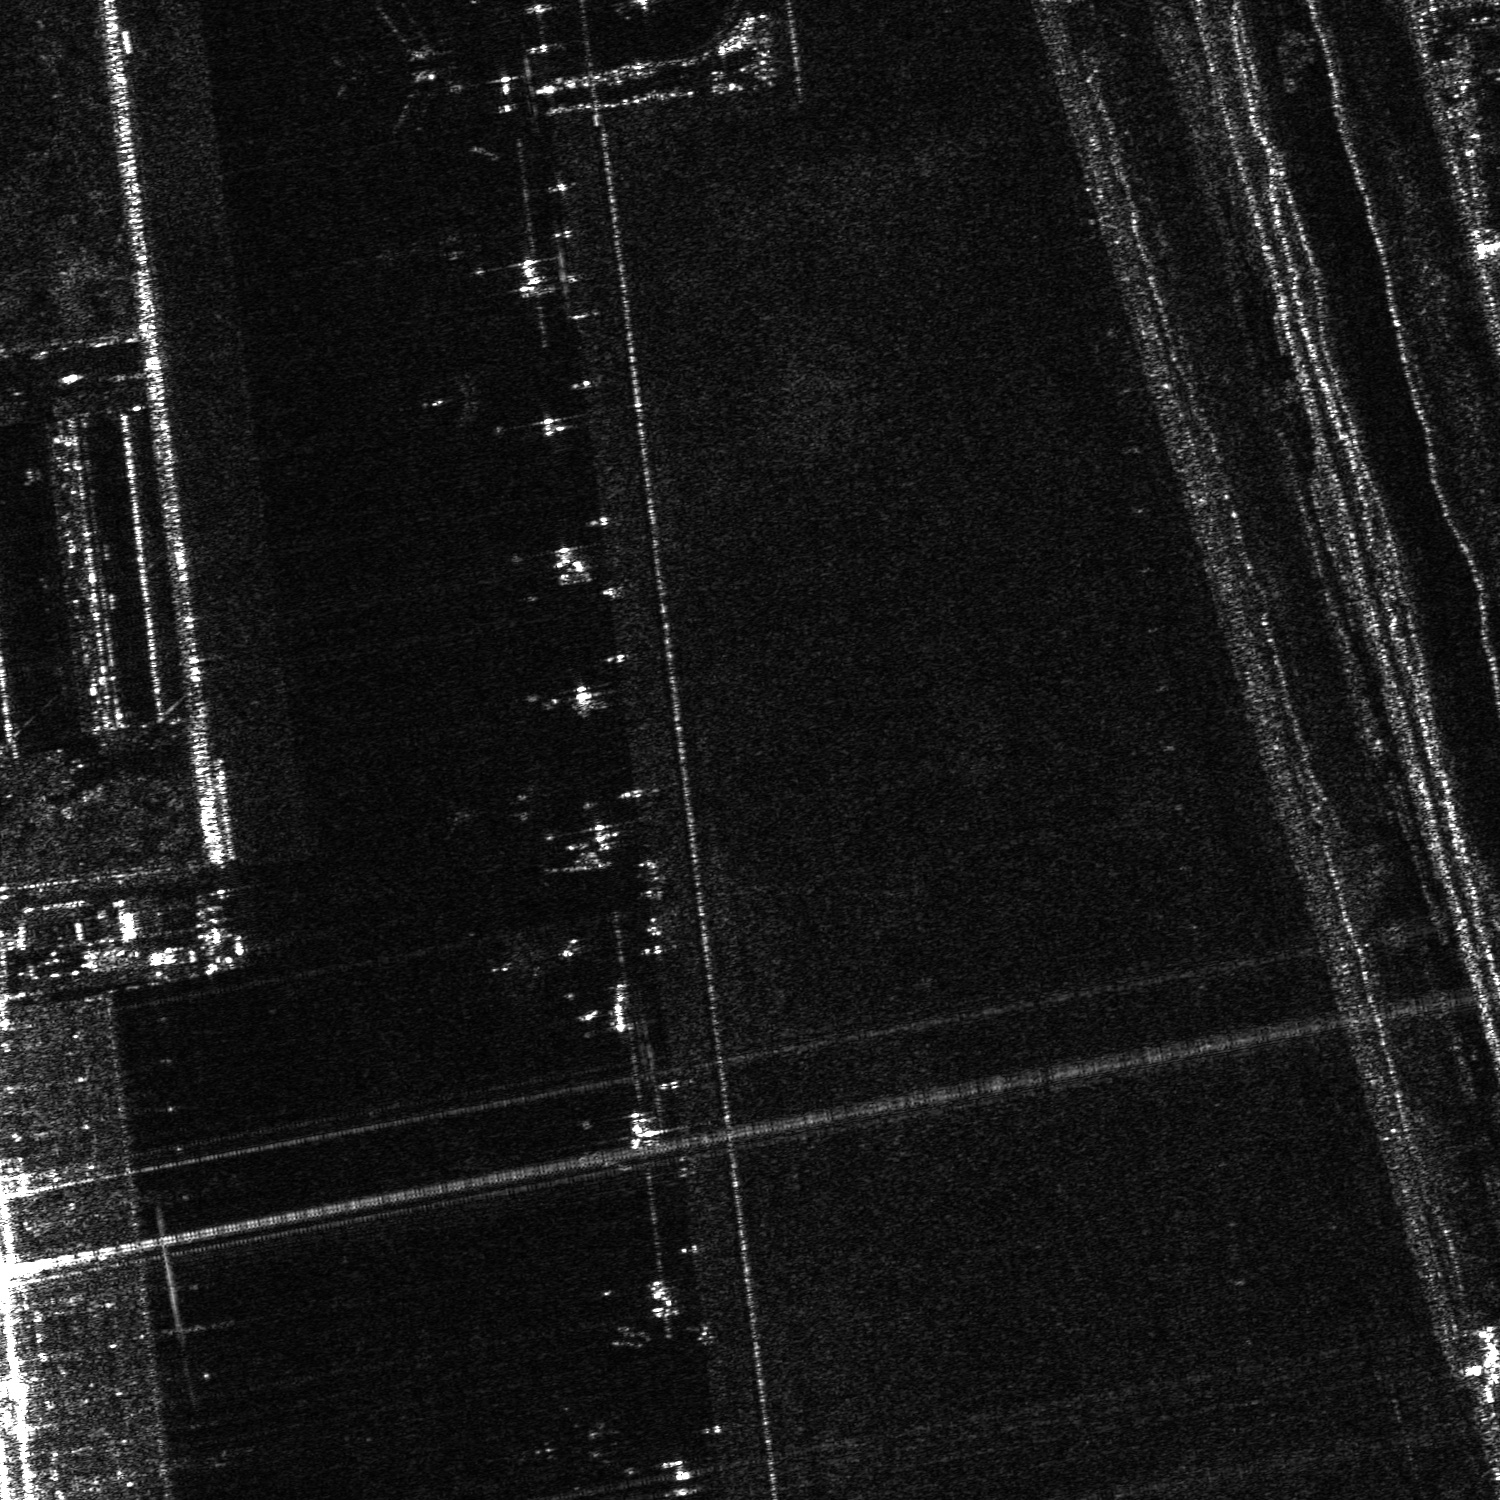A220: (482, 927, 569, 1001)
Boeing787: (507, 1389, 635, 1499), (418, 364, 500, 430)
